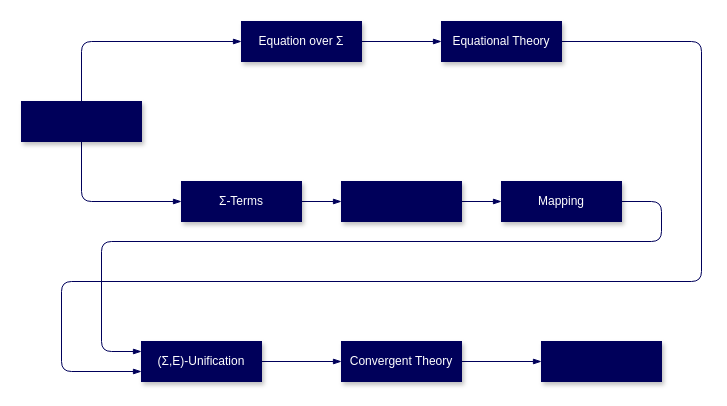
This 727x406 diagram has some shape labels left out. Each missing label, with the centre of its shape:
"Signature" belongs at point 82,122.
"Substitution" belongs at point 402,202.
"Subterm-convergent Equational Theory" belongs at point 602,362.
